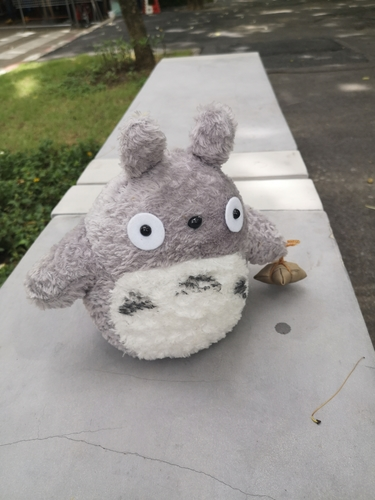totoro: (23, 99, 311, 367)
